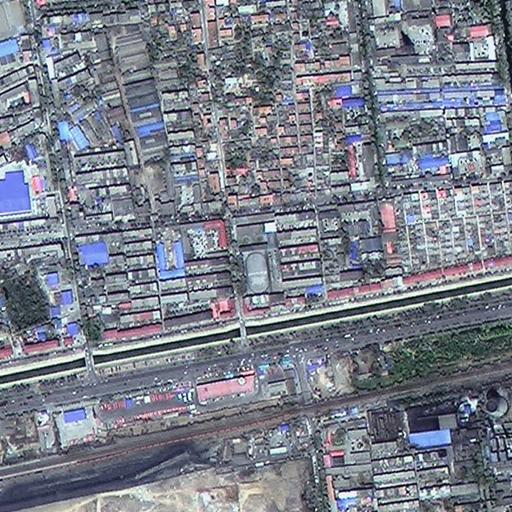school: (230, 214, 279, 298)
